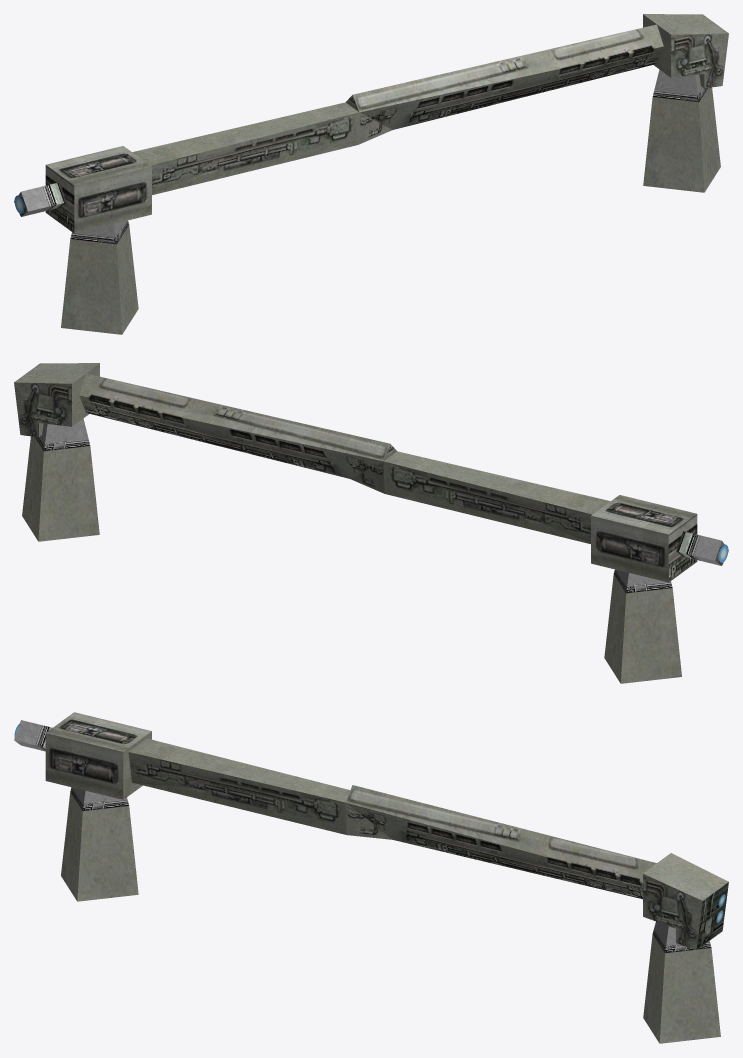
File: thm_corl_power_connector_l2.fbx
3 views of the same model, one above another, from view 1: azimuth 30°, elevation 25°; view 2: azimuth 150°, elevation 25°; view 3: azimuth 330°, elevation 25° (orthographic).
Visible parts, largest first — view 1: mesh_node; view 2: mesh_node; view 3: mesh_node.
Boxes of the visible parts, box(x1,y1,x2,y2) form: mesh_node: box(14, 14, 728, 334); mesh_node: box(14, 363, 728, 683); mesh_node: box(14, 712, 728, 1043).
Size of the model in its own units: 9.02 by 1.99 by 1.
